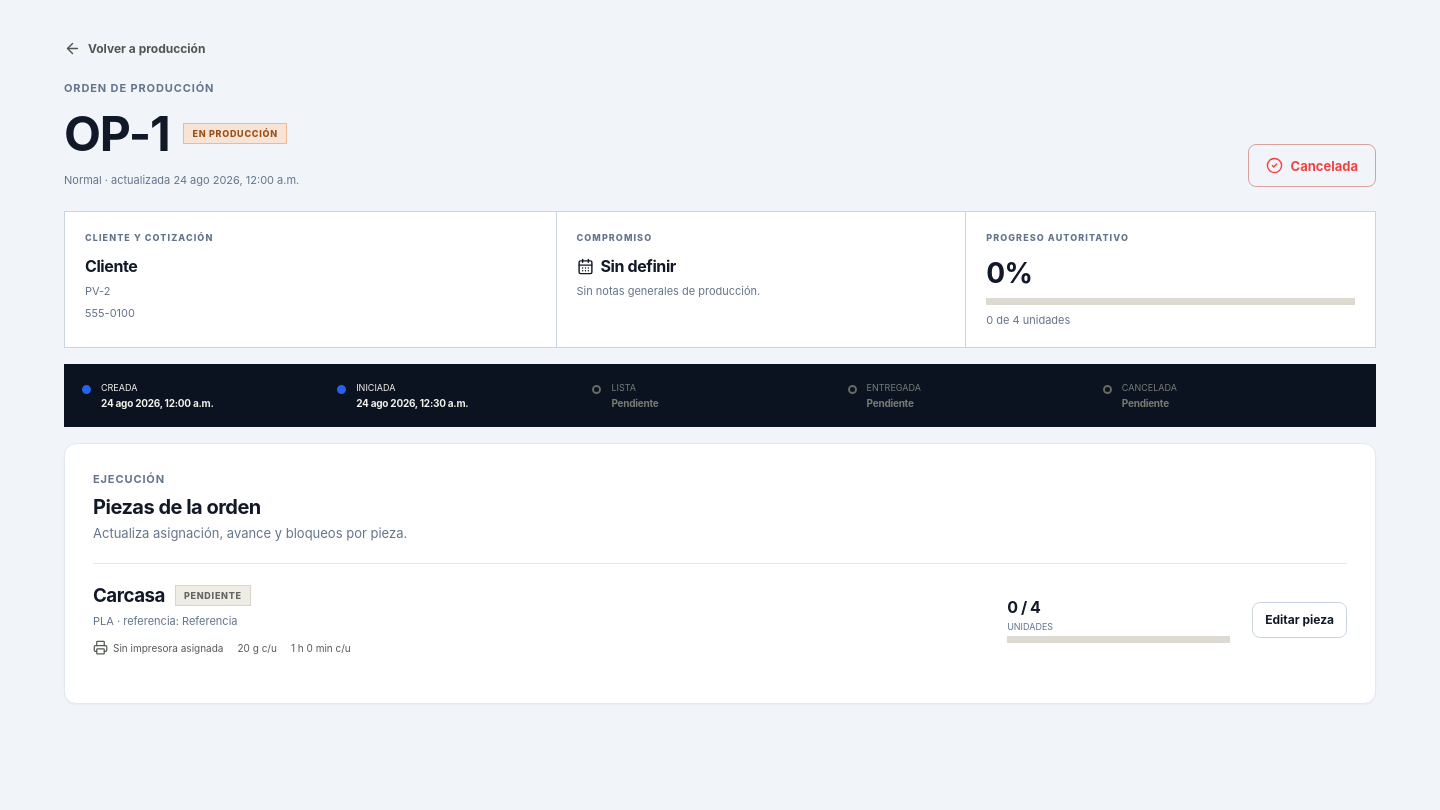
editor de piezas de producción › recarga impresoras no disponibles y conserva el formulario para corregirlo
This screenshot has width=1440, height=810.
Click the button "Editar pieza" at [1300, 620], box [1252,602,1347,638]
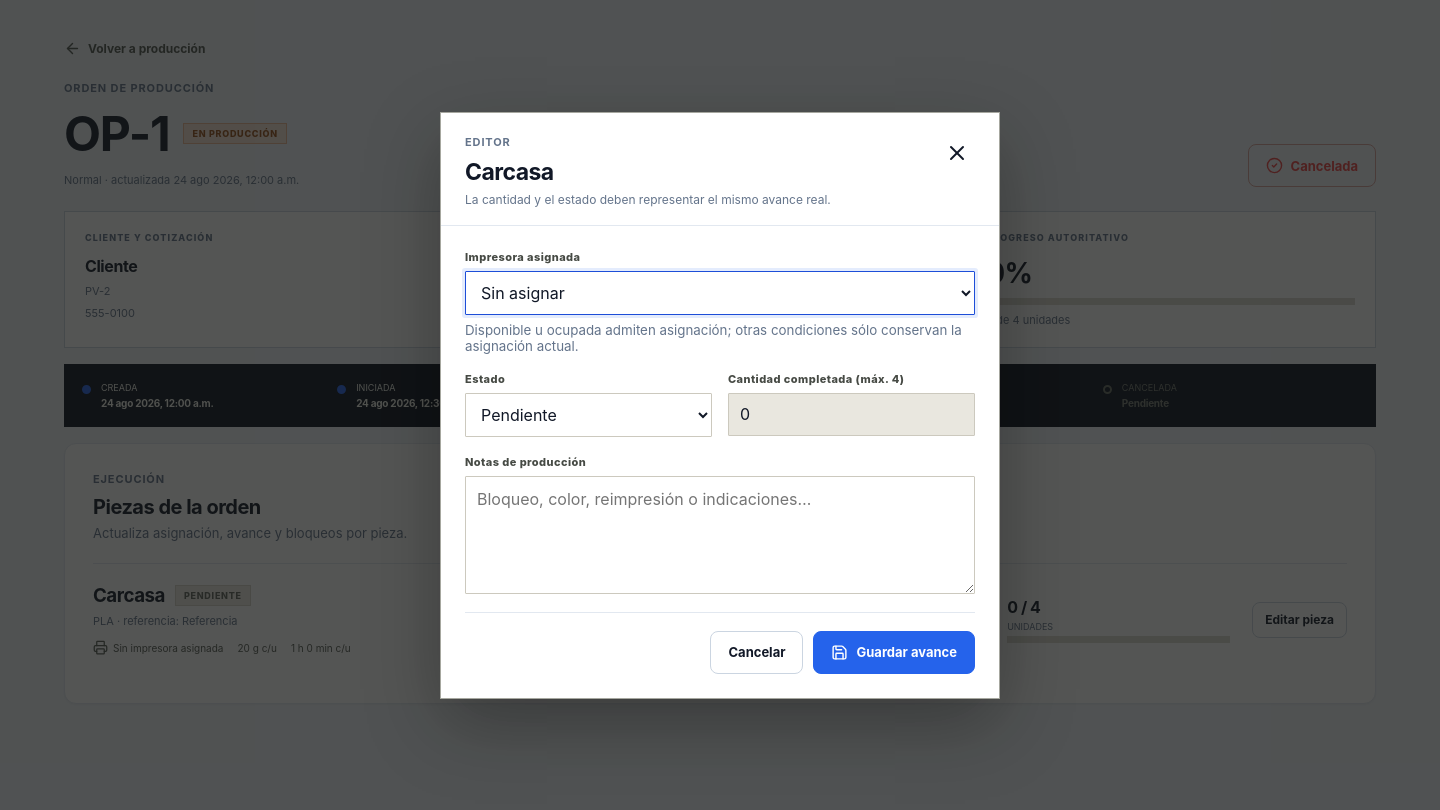
Select "Printer 1 · Disponible" in the dropdown labelled "Impresora asignada" at [720, 292], box [465,270,975,314]
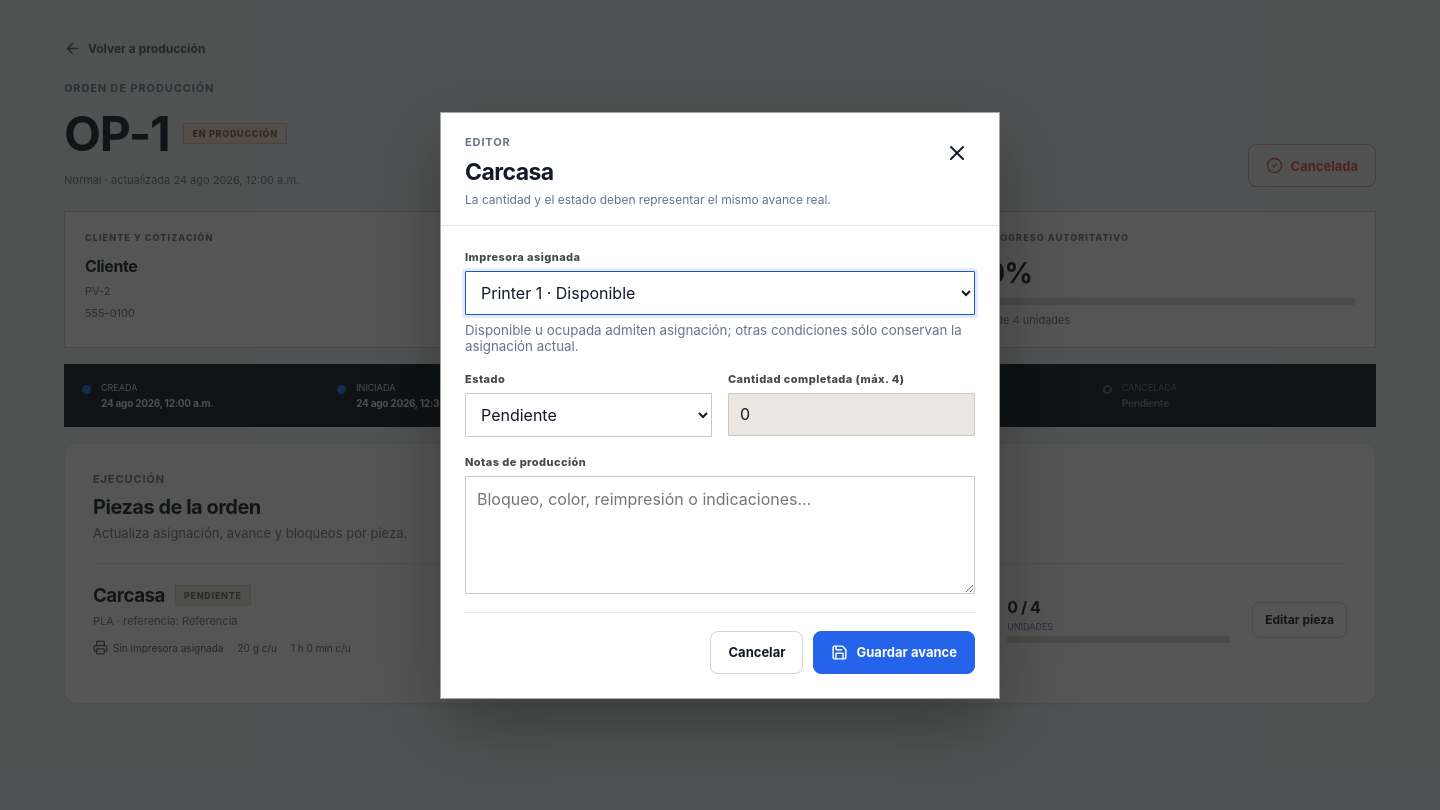
Select "En proceso" in the dropdown labelled "Estado" at [588, 414], box [465,392,712,436]
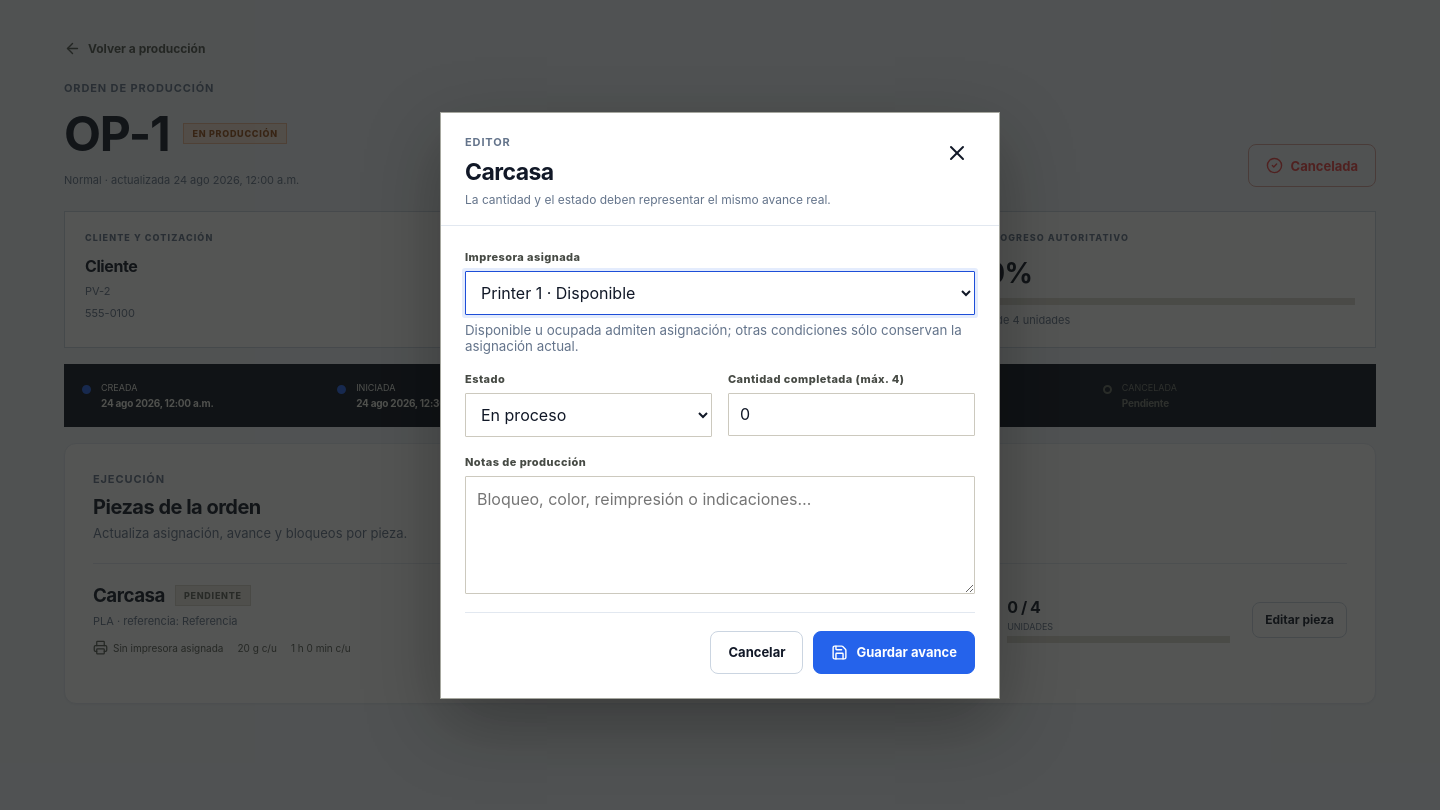
Click the button "Guardar avance" at [894, 652], box [814,630,975,674]
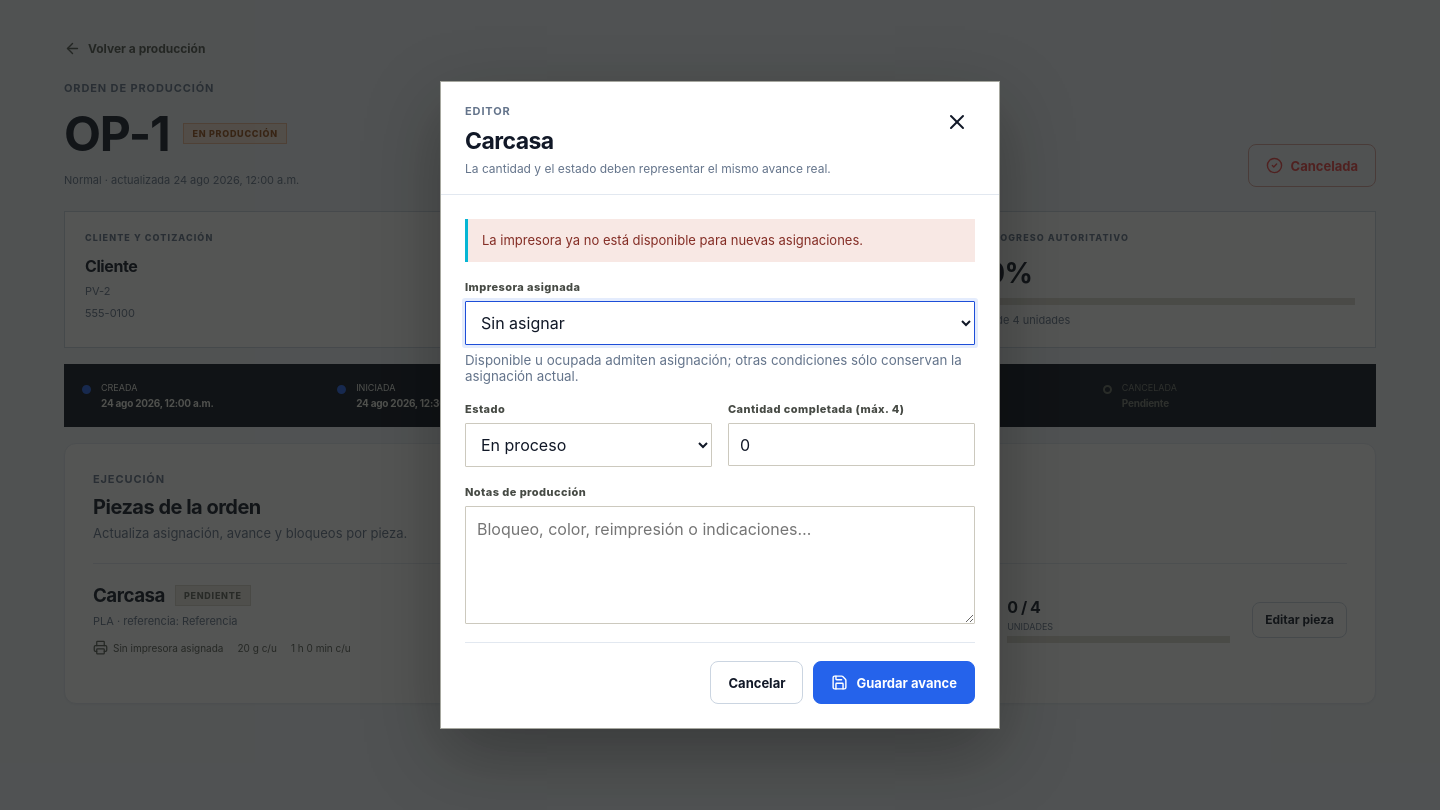
Expected: the text "Printer 1" is not shown
Result: the dialog is shown at [440,81,1000,729]
Result: the message shows "La impresora ya no está disponible" at [482,232,863,248]
